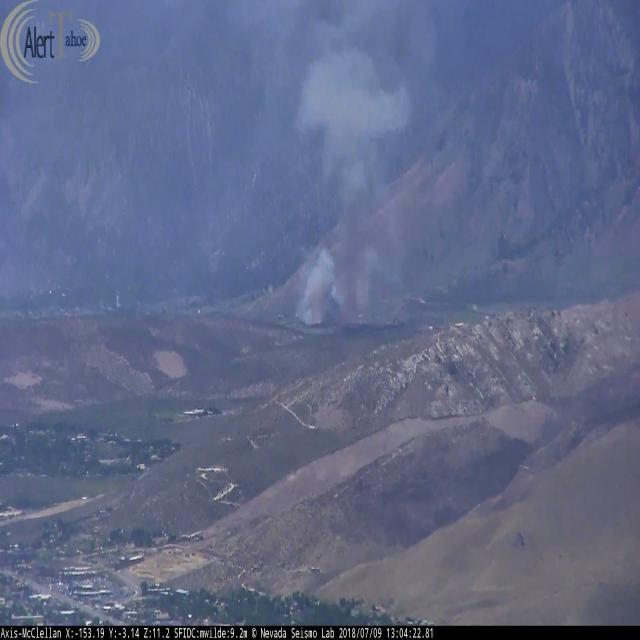smoke: (296, 0, 437, 320)
